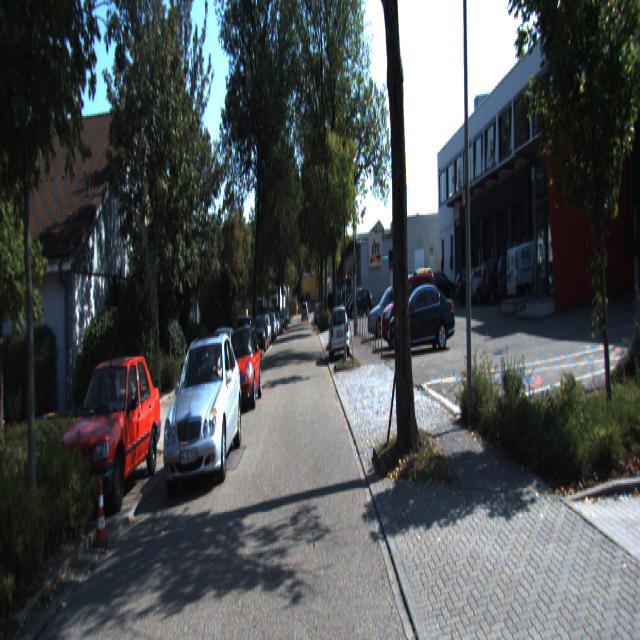Car: (53, 340, 162, 516), (158, 327, 244, 490), (386, 279, 457, 351), (381, 263, 441, 345), (504, 235, 568, 308), (222, 322, 262, 412), (329, 305, 350, 364)
